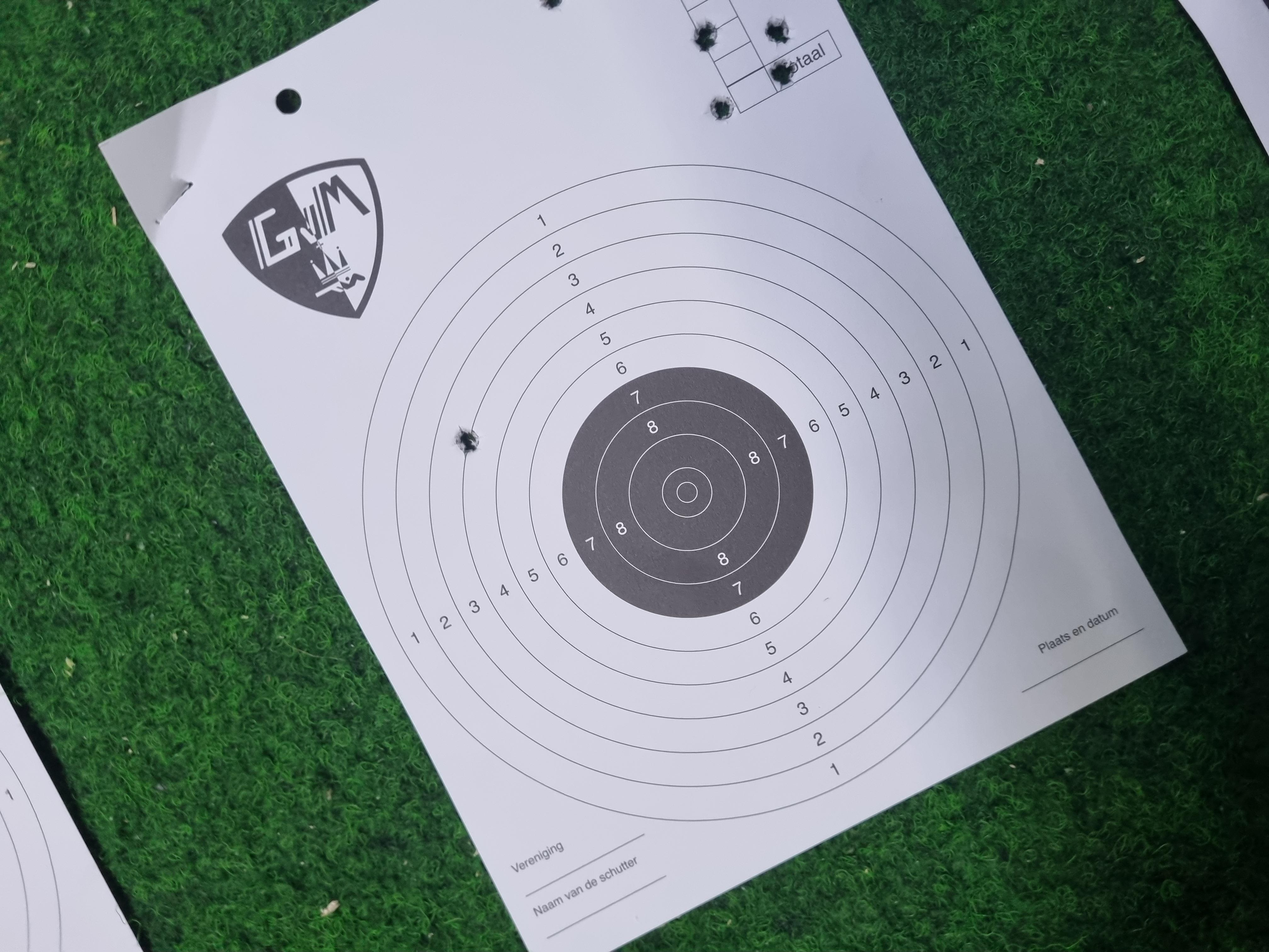hole: (1201, 518, 1242, 540), (1150, 576, 1188, 597), (1210, 573, 1243, 595), (662, 340, 696, 360), (1105, 531, 1138, 550)
